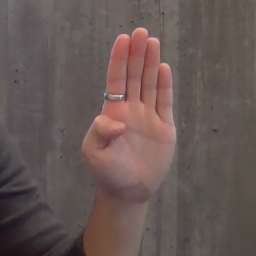B: (81, 26, 181, 209)
